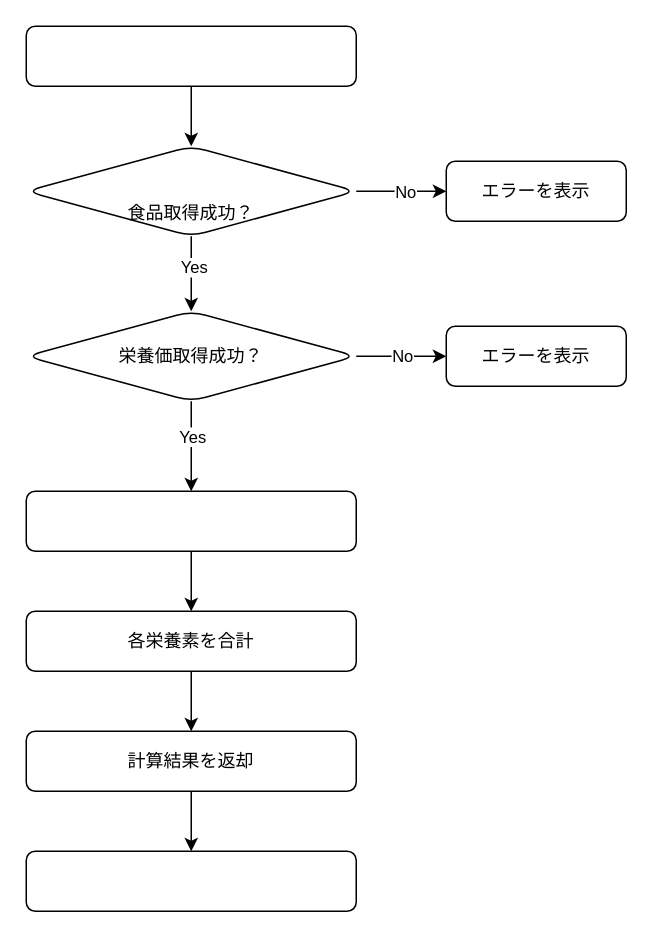
Image size: 653x938. Some labels were removed from this diagram. Each missing label, with the centre of its shape:
"ユーザーが栄養価計算を実行" belongs at point 190,55.
"栄養価×使用量÷100を計算" belongs at point 190,520.
"結果を表示" belongs at point 190,880.
